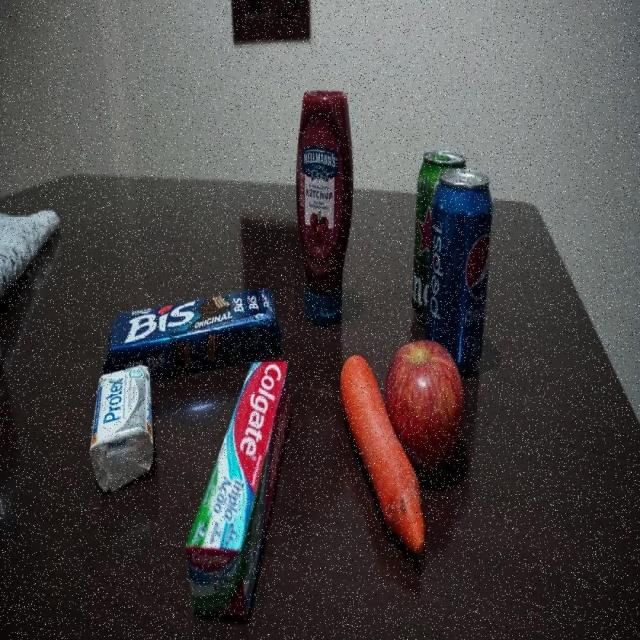Apple: (390, 340, 466, 477)
BeerCan: (411, 151, 431, 321)
Carrot: (338, 354, 388, 535)
Ketchup: (295, 83, 352, 325)
Soap: (94, 363, 156, 497)
SodaCan: (432, 167, 490, 337)
Toothpaste: (185, 355, 297, 617)
